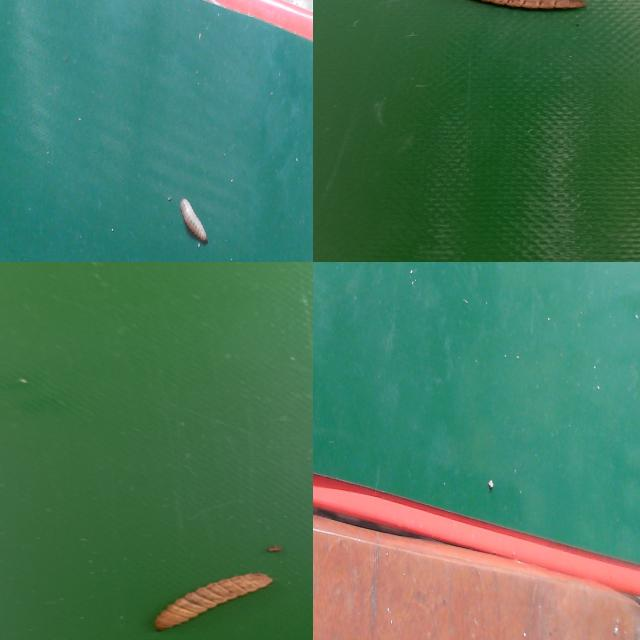Maggot: (152, 573, 273, 632), (459, 0, 586, 14), (179, 200, 209, 248)
